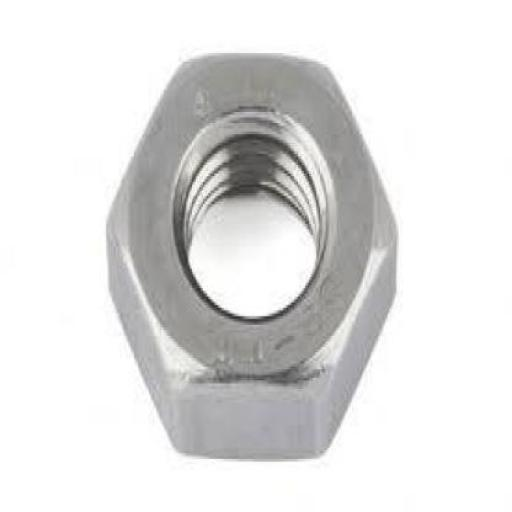nut: (106, 53, 399, 463)
